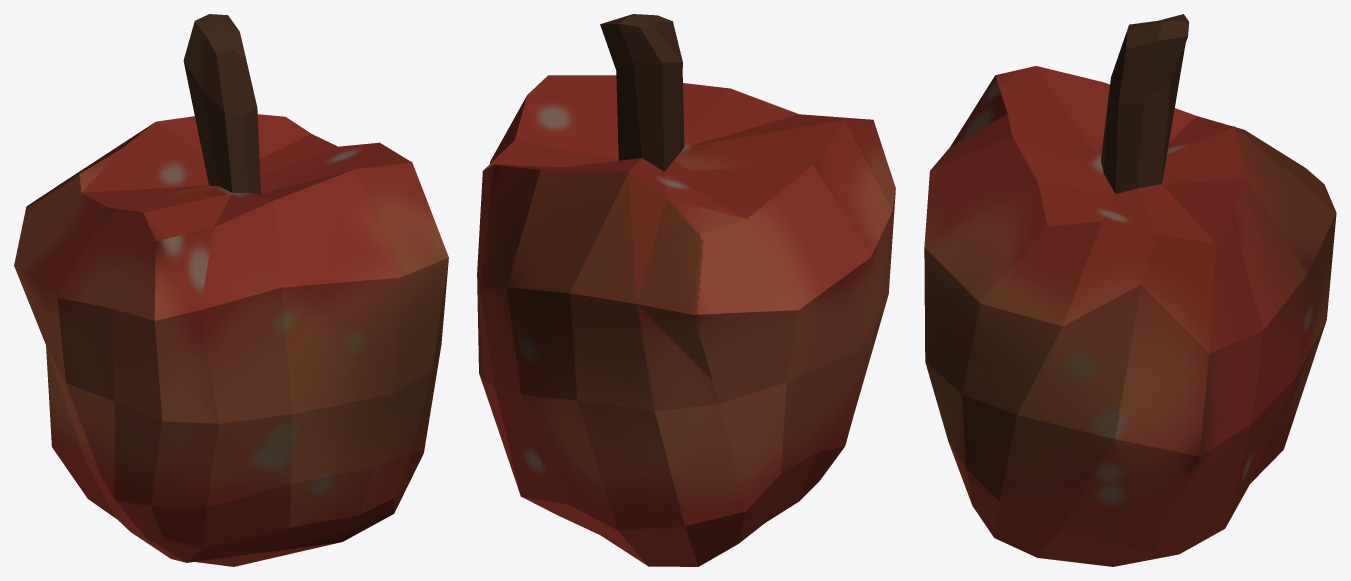
File: apperl.fbx
The picture shows the model from 3 angles, left to right: view 1: azimuth 30°, elevation 25°; view 2: azimuth 150°, elevation 25°; view 3: azimuth 270°, elevation 25°; orthographic projection. The views are drawn at different scales.
Visible parts, largest first — view 1: Cube; view 2: Cube; view 3: Cube.
Boxes of the visible parts, box(x1,y1,x2,y2) form: Cube: box(14, 14, 448, 566); Cube: box(477, 14, 895, 566); Cube: box(924, 14, 1336, 566).
Size of the model in its own units: 212 by 286 by 209.
1 material, 1 textured.
